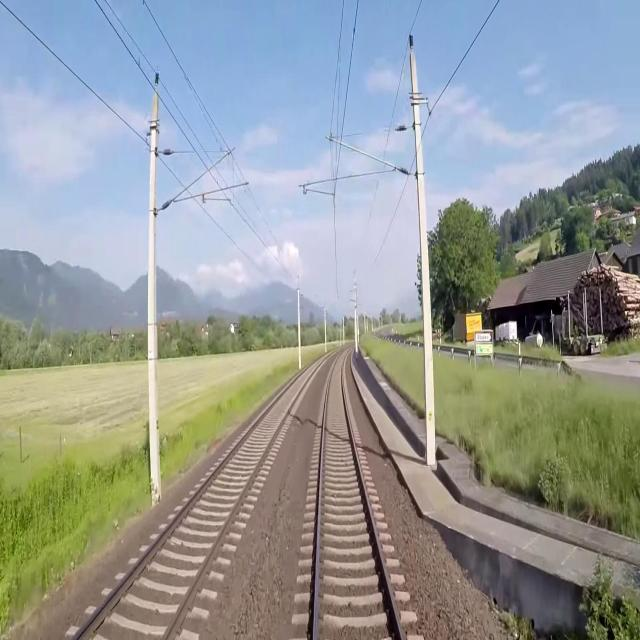rail-track: (77, 364, 316, 639), (318, 354, 400, 639)
